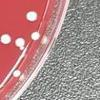white: (24, 9, 40, 24), (0, 31, 12, 47), (13, 36, 27, 48), (29, 30, 42, 42), (12, 68, 22, 79), (18, 45, 26, 52)
